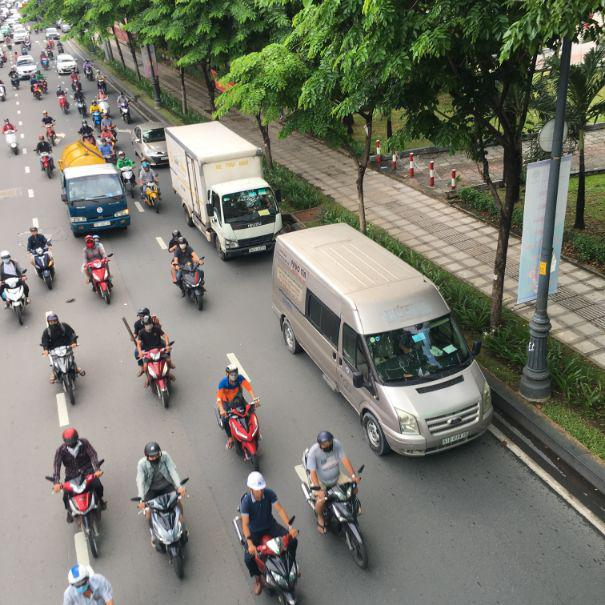car: (268, 217, 487, 457), (136, 127, 169, 167), (10, 56, 39, 80), (57, 56, 76, 75)
motorbike: (236, 516, 304, 605), (315, 467, 370, 568), (138, 482, 189, 575), (58, 473, 106, 558), (220, 399, 261, 464), (140, 349, 176, 409), (51, 348, 85, 403), (85, 253, 115, 304), (177, 266, 207, 312), (1, 281, 31, 327), (29, 243, 57, 289)
truck: (164, 120, 282, 257), (61, 142, 134, 238)
